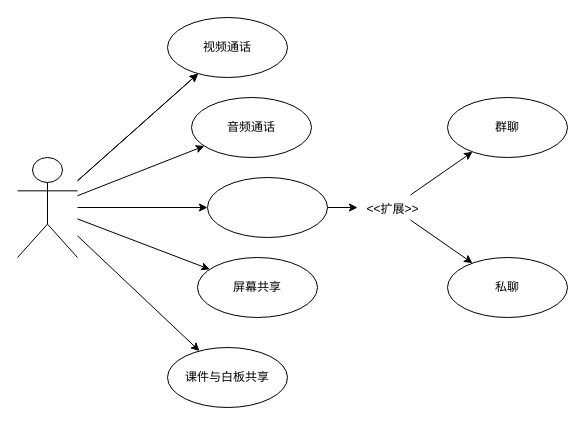
The diagram is 585 pixels wide and 425 high, and some of its shapes have lost their labels. The shapes that lost their labels are listed below. From the top down, each one's box as (x1, y1, x2, y2) in pixels, then its label:
(16, 156, 78, 258): Actor
(206, 176, 328, 238): 文字聊天
